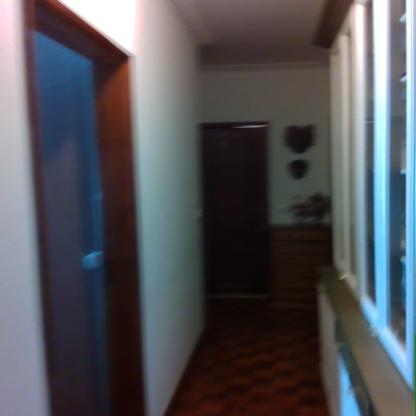closed: (185, 114, 279, 306)
